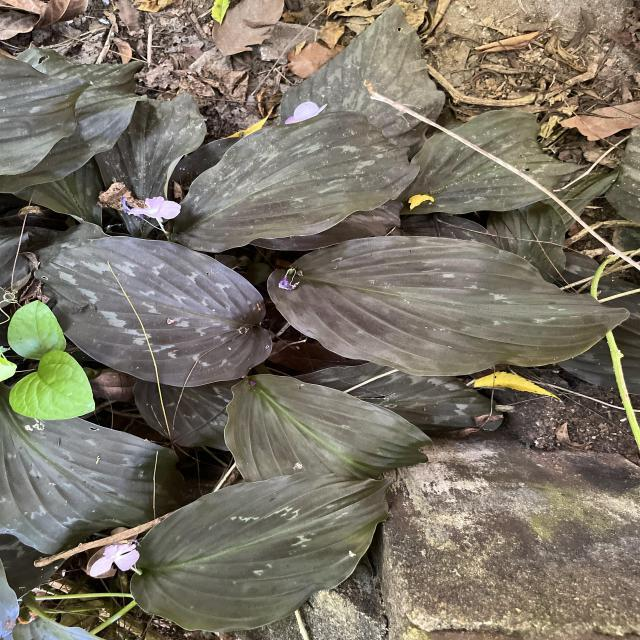Kaempferia galanga linn: (264, 232, 634, 380), (127, 468, 399, 634), (27, 234, 275, 389), (168, 109, 424, 255)
